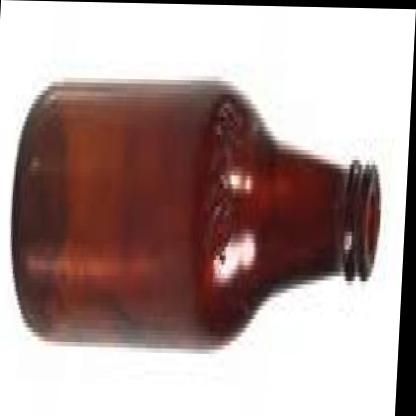trash: (12, 81, 379, 347)
